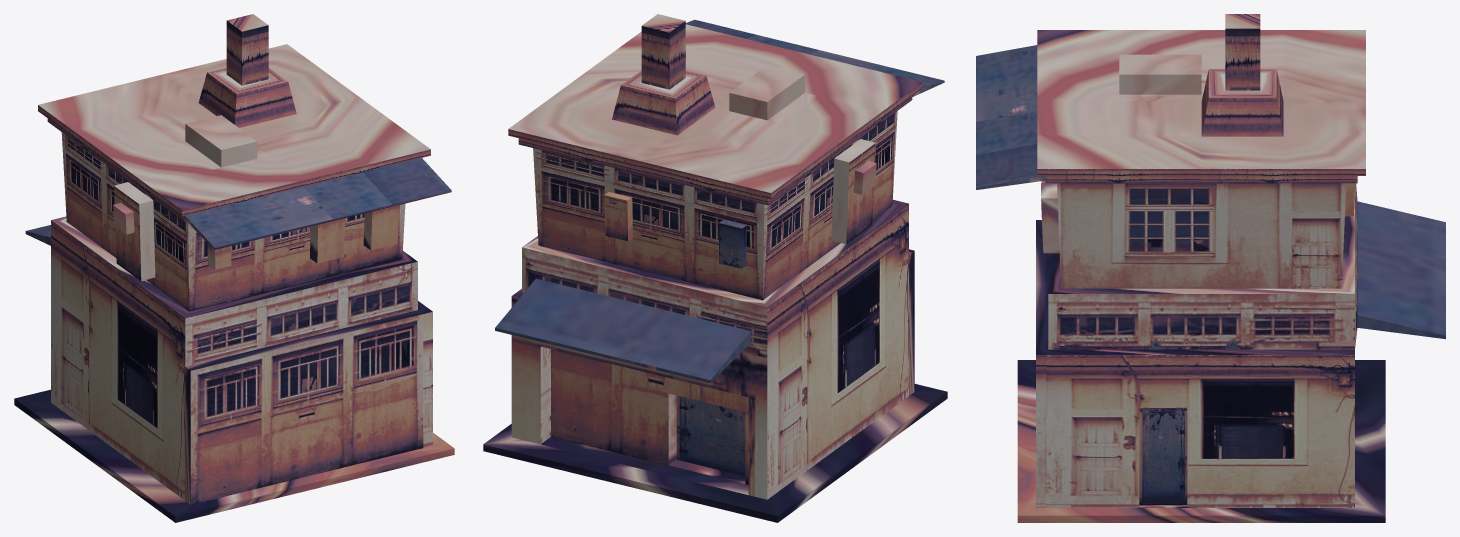
Rendered from habit1.fbx.
3 views of the same model, side by side, from view 1: azimuth 30°, elevation 25°; view 2: azimuth 150°, elevation 25°; view 3: azimuth 270°, elevation 25° (orthographic). The views are drawn at different scales.
Parts seen in each view (by area): view 1: Cube; view 2: Cube; view 3: Cube.
Boxes of the visible parts, x1=… form: Cube: x1=14, y1=14, x2=454, y2=522; Cube: x1=483, y1=14, x2=947, y2=522; Cube: x1=976, y1=14, x2=1445, y2=522.
Bounding box in the file's own units: 480 × 635 × 613.
